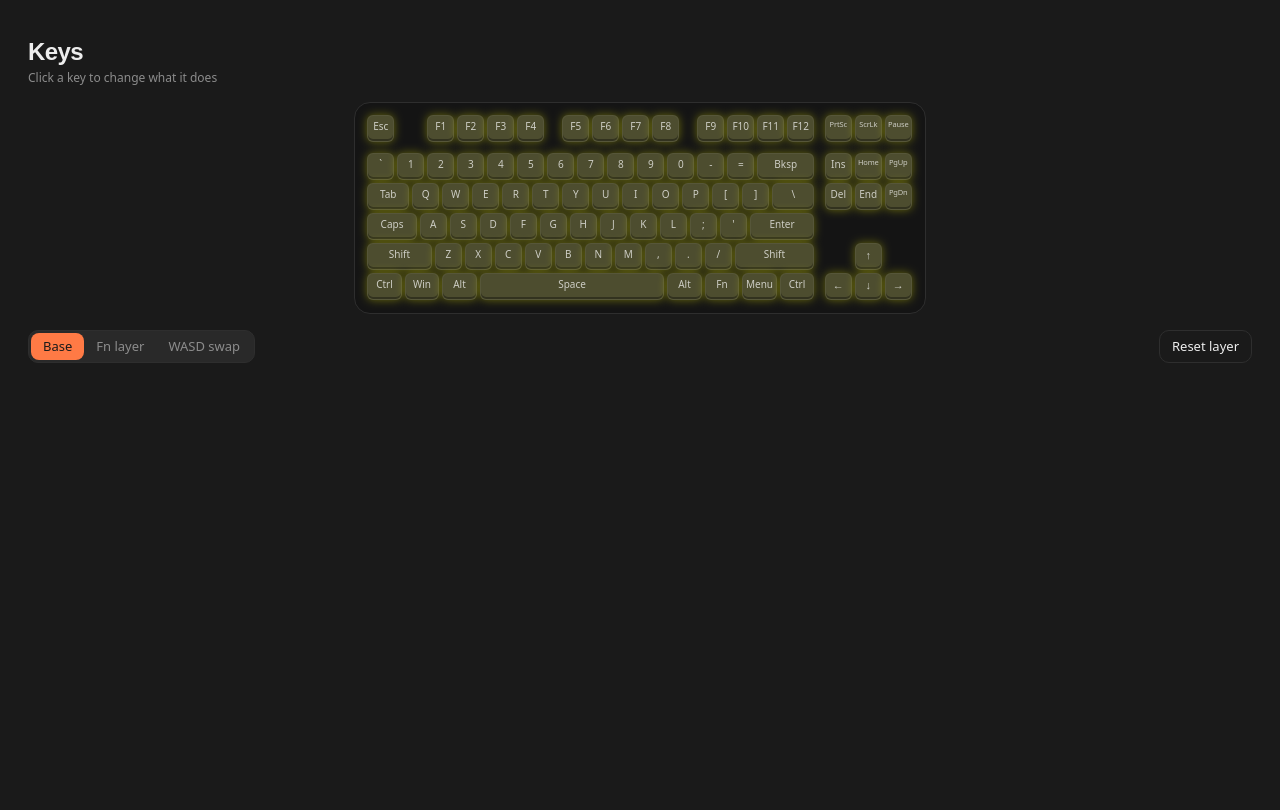
Scenario: remap J on the Fn layer and see the mark
The width and height of the screenshot is (1280, 810).
Click the radio button labelled "Fn layer" at (120, 346), box [84, 332, 156, 360]
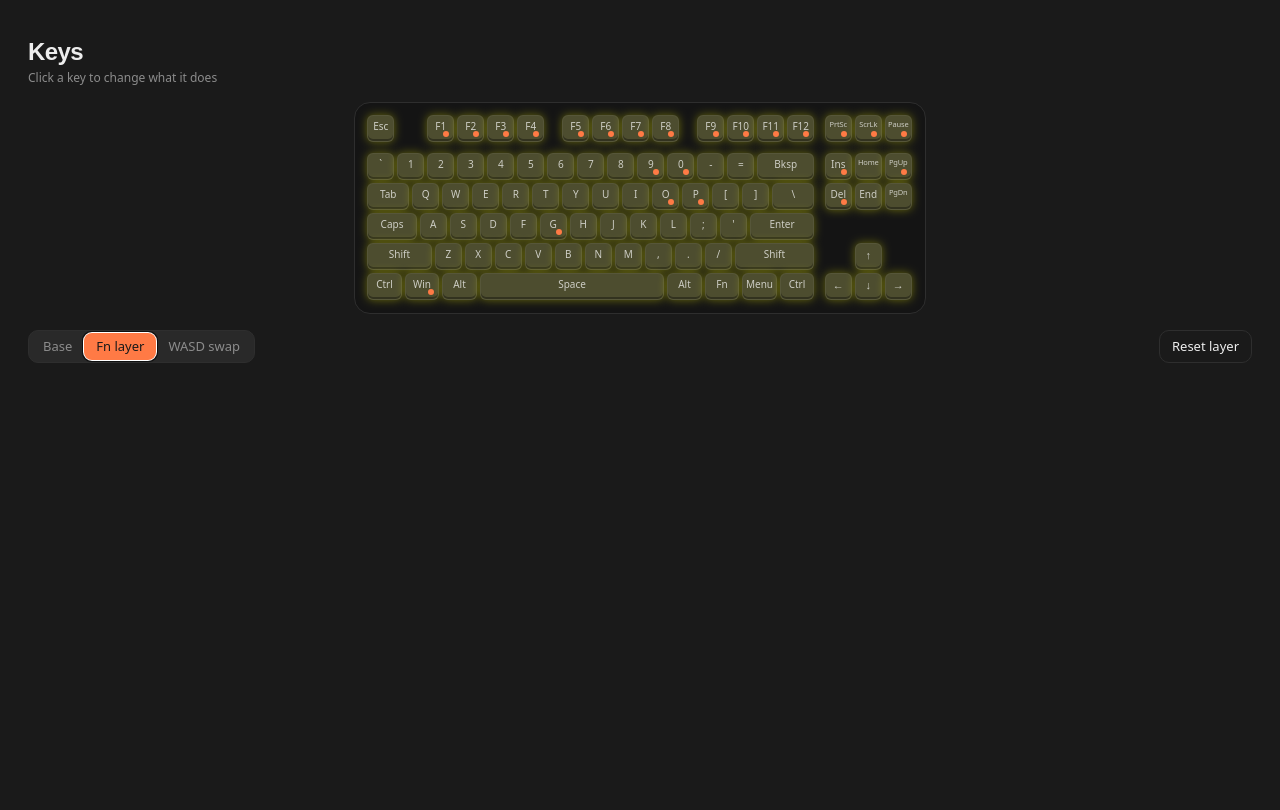
Click the button "J" at (613, 226), box [600, 212, 627, 240]
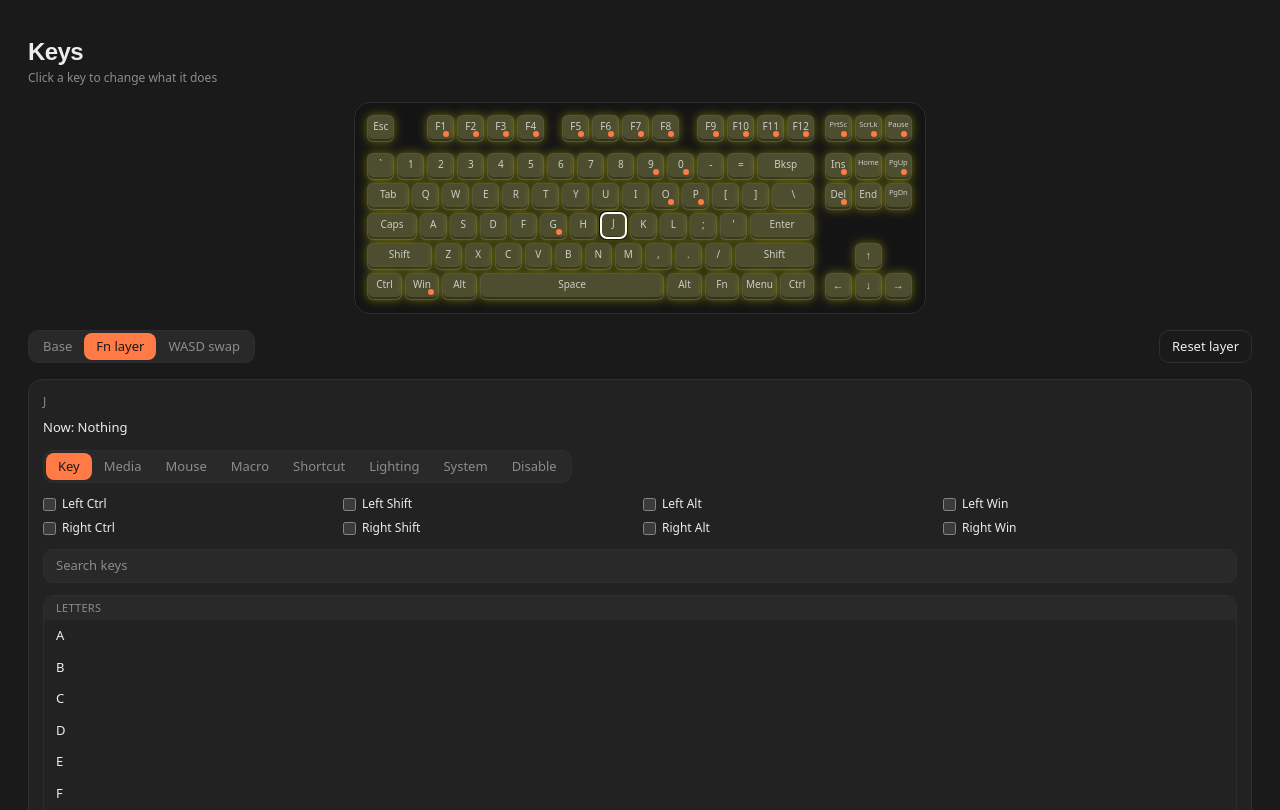
Expected: the text "Now: Nothing" is shown, [43, 418, 127, 436]
Click the radio button labelled "Media" at (123, 466), box [92, 452, 154, 480]
(page scrolled)
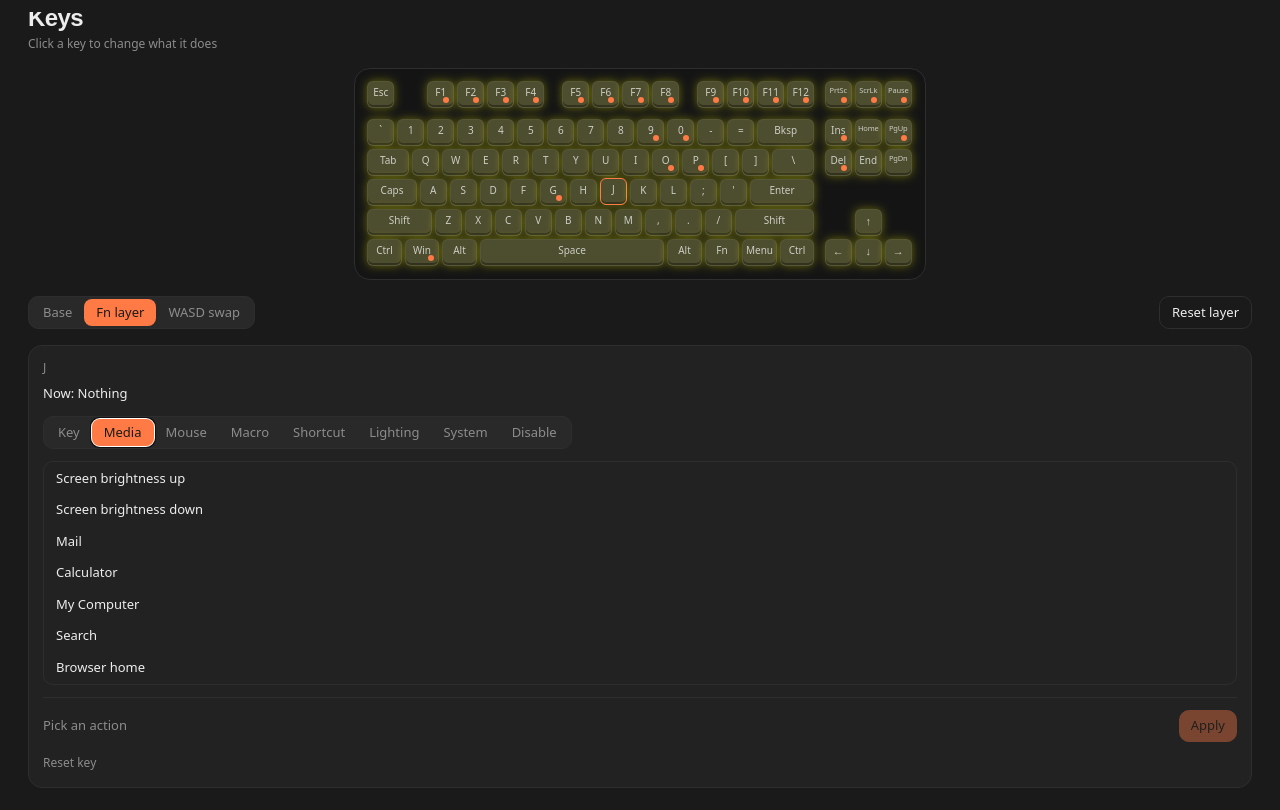
Click the radio button labelled "Calculator" at (87, 572), box [44, 557, 1236, 588]
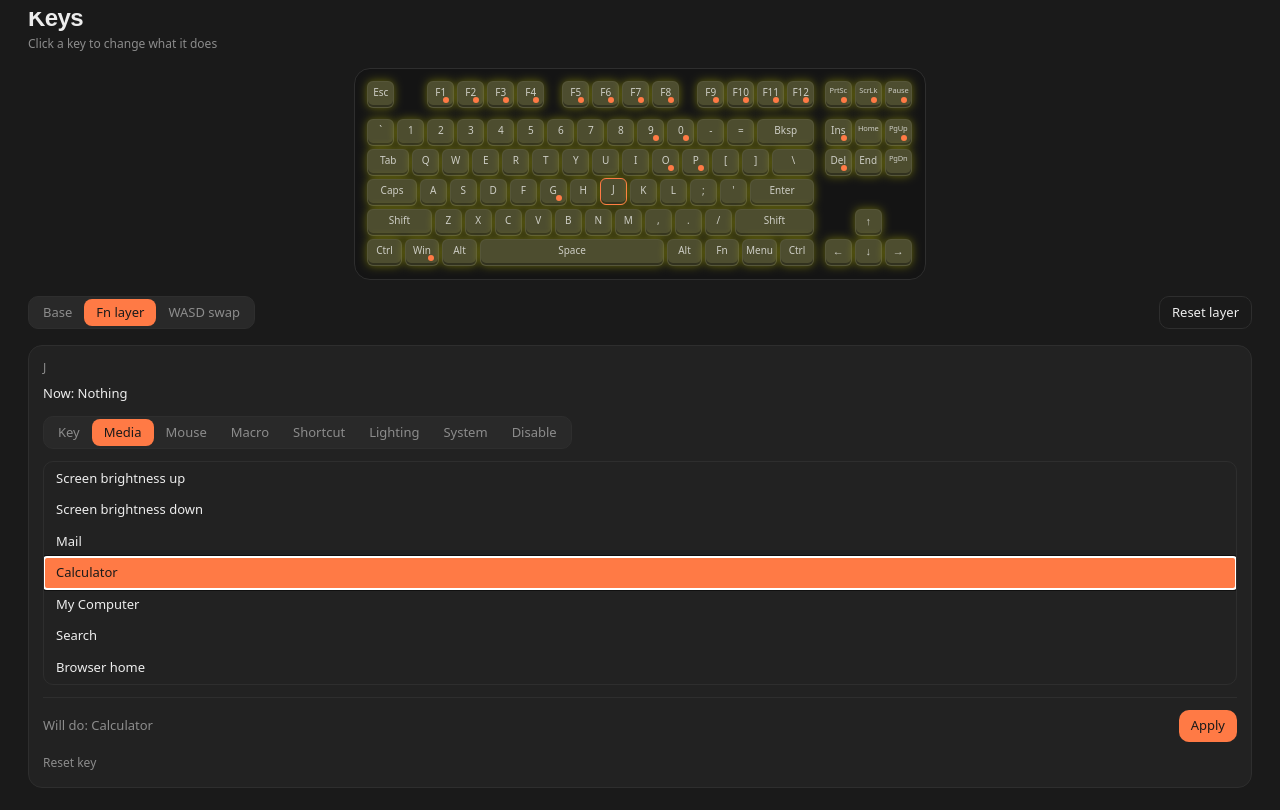
Click the button "Apply" at (1208, 726), box [1179, 710, 1237, 742]
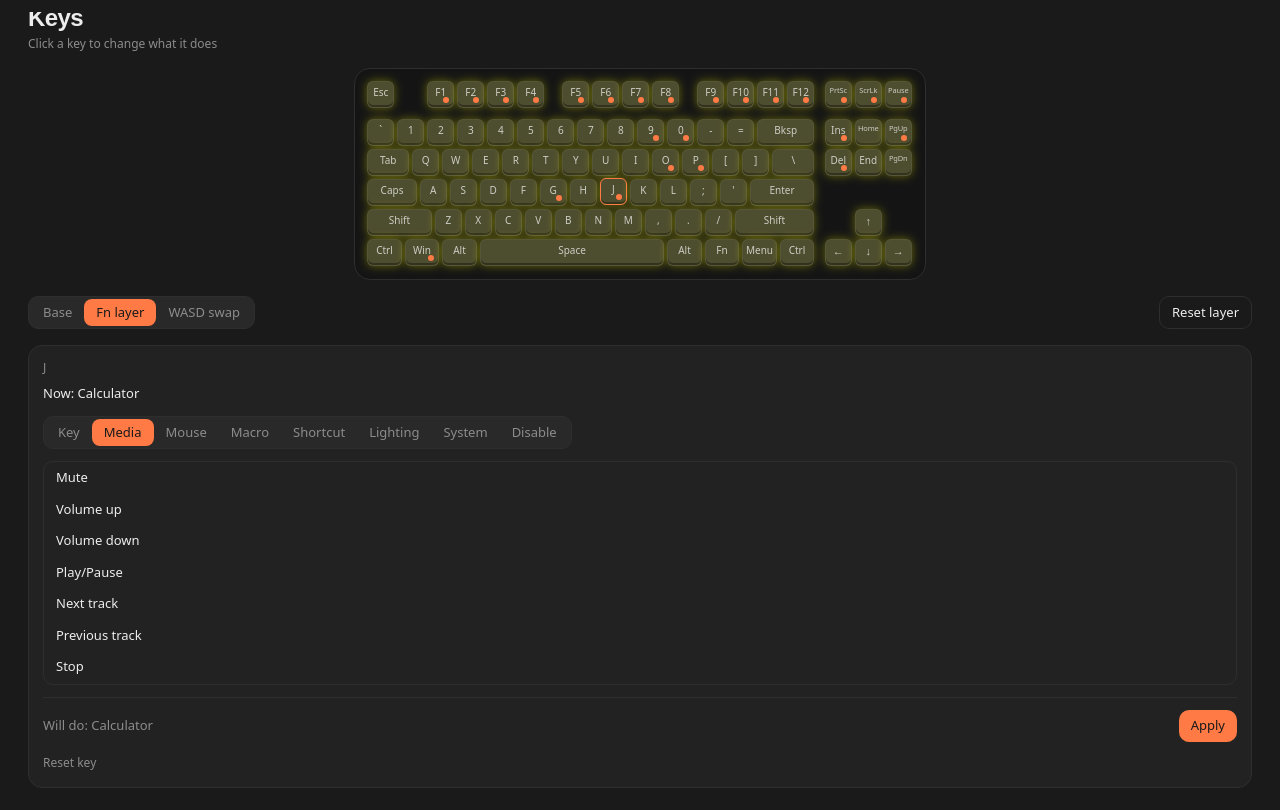
Expected: the text "Now: Calculator" is shown, [43, 384, 139, 402]
